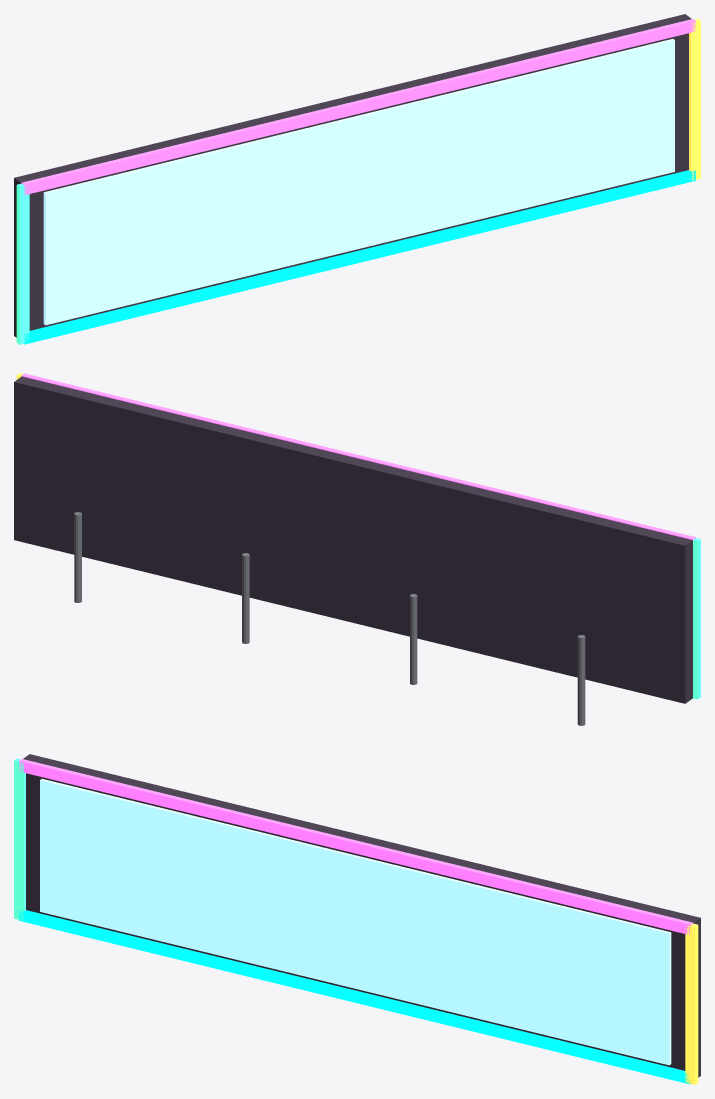
File: SIGN_Neon_Horizontal_LG.glb
3 renders of one model, top to bottom at view 1: azimuth 30°, elevation 25°; view 2: azimuth 150°, elevation 25°; view 3: azimuth 330°, elevation 25°, orthographic.
Parts seen in each view (by area): view 1: SIGN_Neon_Horizontal_LG; view 2: SIGN_Neon_Horizontal_LG; view 3: SIGN_Neon_Horizontal_LG.
Part boxes in pixels (x1,y1,x2,y2): SIGN_Neon_Horizontal_LG: [14, 14, 700, 344]; SIGN_Neon_Horizontal_LG: [14, 373, 700, 725]; SIGN_Neon_Horizontal_LG: [14, 754, 700, 1084].
Size of the model in its own units: 8.12 by 2.11 by 0.67.
